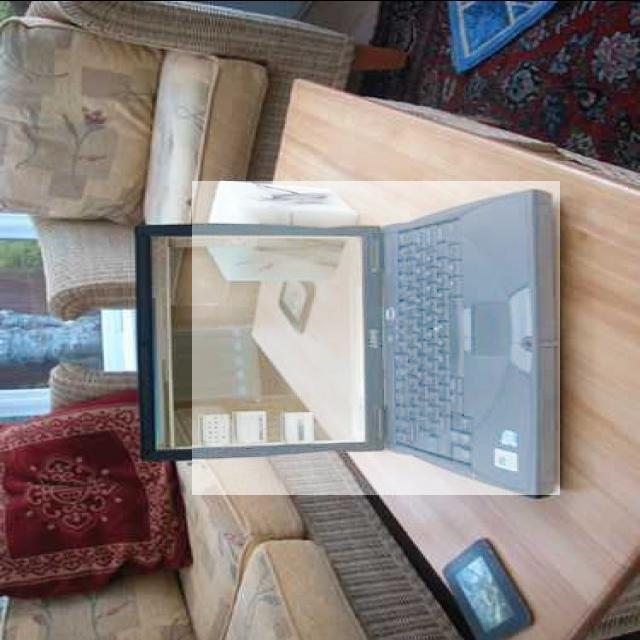-keyboard-: (192, 182, 560, 496)
